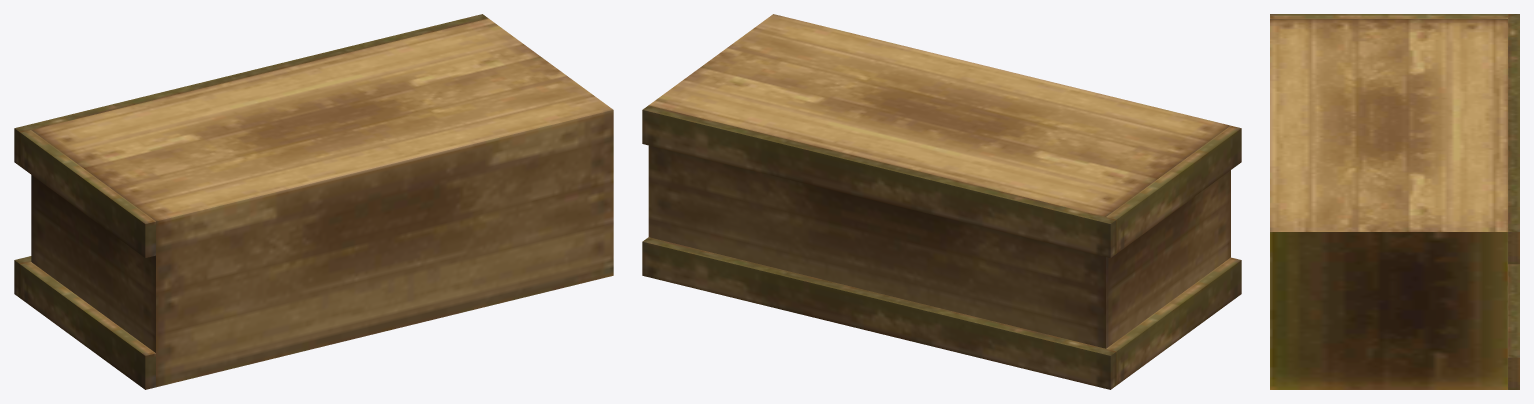
The model's file is woodenbox.fbx.
3 renders of one model, left to right at view 1: azimuth 30°, elevation 25°; view 2: azimuth 150°, elevation 25°; view 3: azimuth 270°, elevation 25°, orthographic. The views are drawn at different scales.
Parts seen in each view (by area): view 1: woodenbox; view 2: woodenbox; view 3: woodenbox.
Part boxes in pixels (left/top/right/bottom): woodenbox: left=14, top=14, right=613, bottom=389; woodenbox: left=642, top=14, right=1241, bottom=389; woodenbox: left=1270, top=14, right=1519, bottom=389.
Size of the model in its own units: 750 by 254 by 363.
